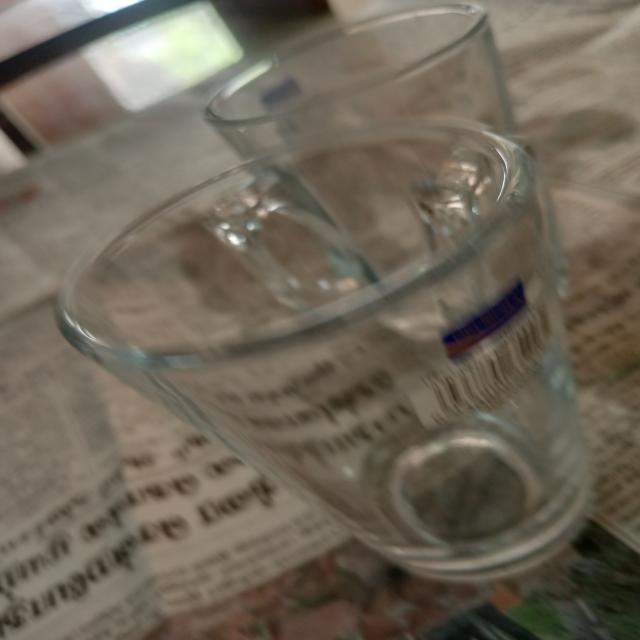glass-VX4N: (212, 3, 522, 289)
